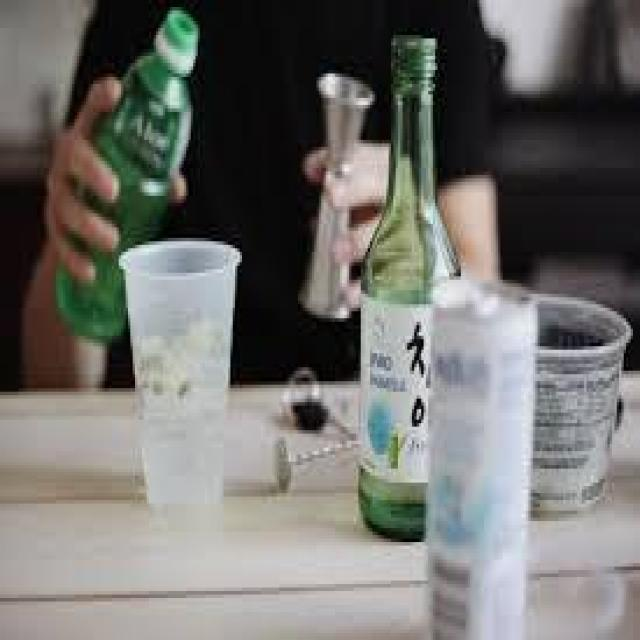soju-bottle: (361, 35, 461, 549)
